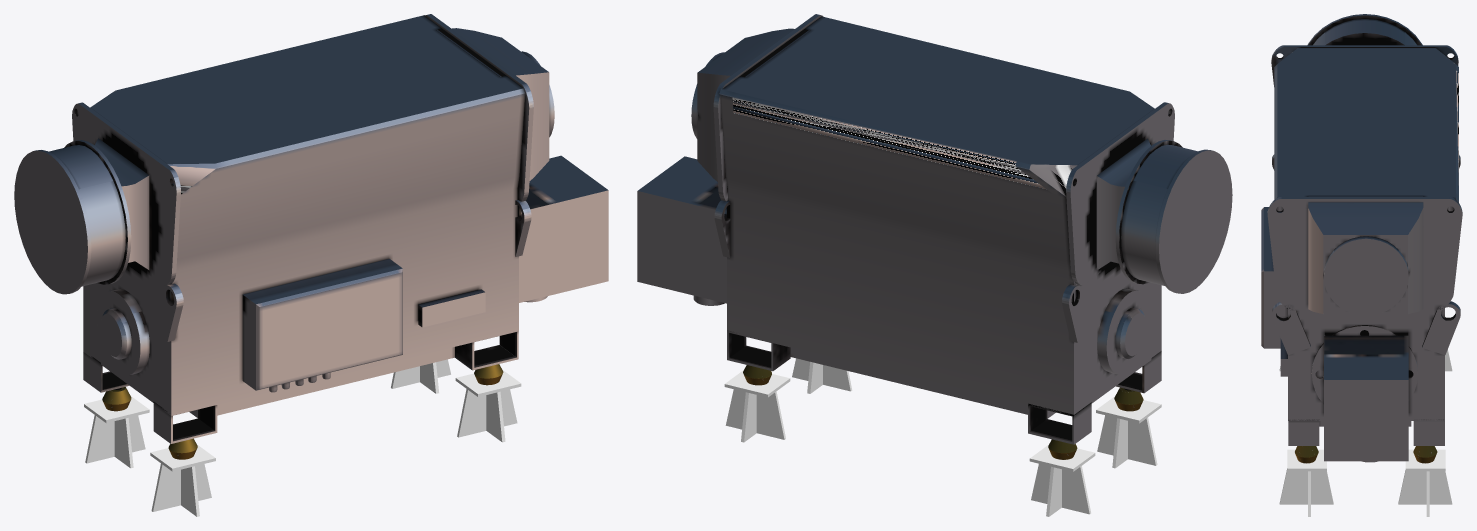
Rendered from houzhuji1.glb.
3 views of the same model, side by side, from view 1: azimuth 30°, elevation 25°; view 2: azimuth 150°, elevation 25°; view 3: azimuth 270°, elevation 25° (orthographic). The views are drawn at different scales.
Visible parts, largest first — view 1: ding, jiao; view 2: ding, jiao; view 3: ding, jiao.
Boxes of the visible parts, x1=… form: ding: x1=14, y1=14, x2=608, y2=443; jiao: x1=84, y1=359, x2=521, y2=516; ding: x1=637, y1=14, x2=1232, y2=444; jiao: x1=724, y1=358, x2=1161, y2=516; ding: x1=1261, y1=14, x2=1462, y2=462; jiao: x1=1279, y1=316, x2=1452, y2=516.
Size of the model in its own units: 13.28 by 8.36 by 4.84.
Materials: 4 (2 with a texture image).
